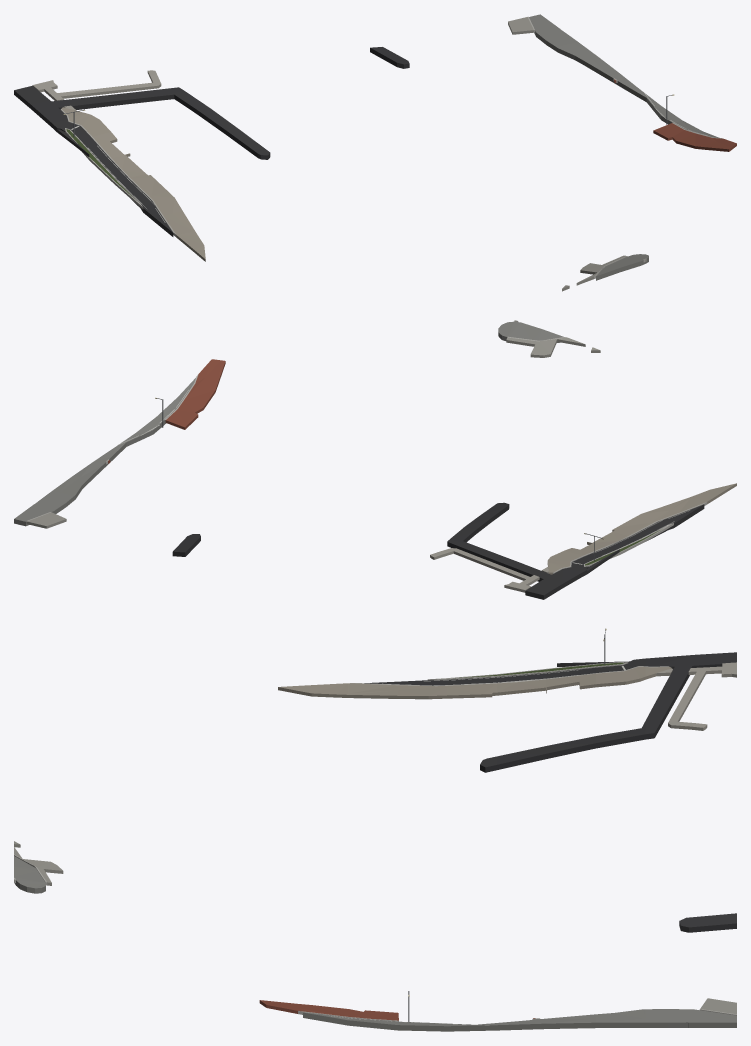
3 views of the same model, one above another, from view 1: azimuth 30°, elevation 25°; view 2: azimuth 150°, elevation 25°; view 3: azimuth 270°, elevation 25° (orthographic). The views are drawn at different scales.
Bounding box in the file's own units: 148 × 21.01 × 146.
